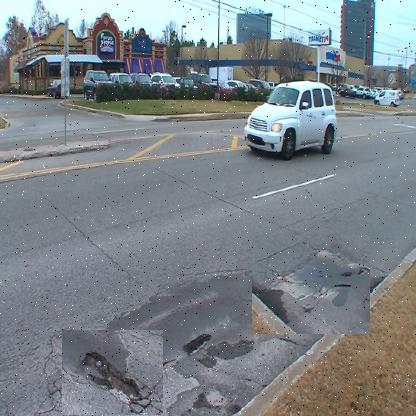damage: (251, 235, 370, 336), (175, 307, 246, 382), (165, 386, 256, 415)
pothole: (61, 330, 163, 416)
